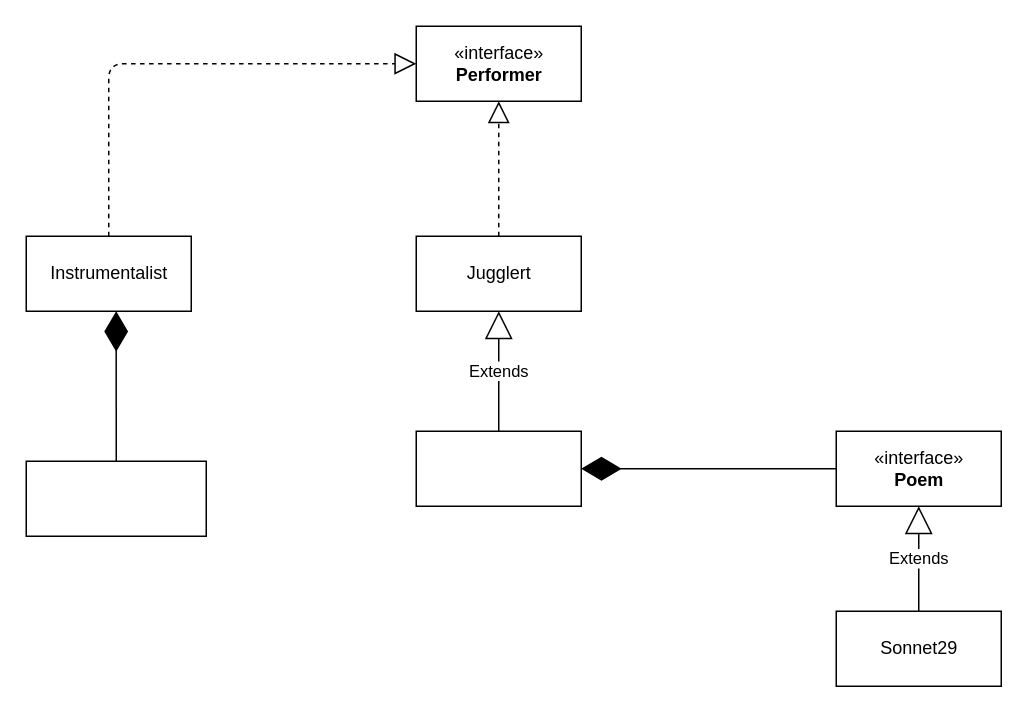
This 1028x713 diagram has some shape labels left out. Here are the shapes that lost their labels. From the top down, the centre of each, then its label:
At (x=498, y=468): "PoeticJuggler".
At (x=115, y=498): "Instrument".
